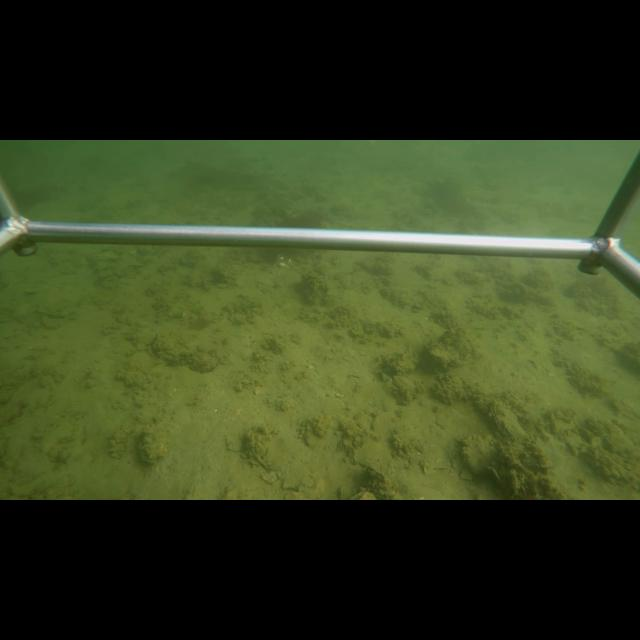Oyster-Closed: (487, 398, 532, 446)
